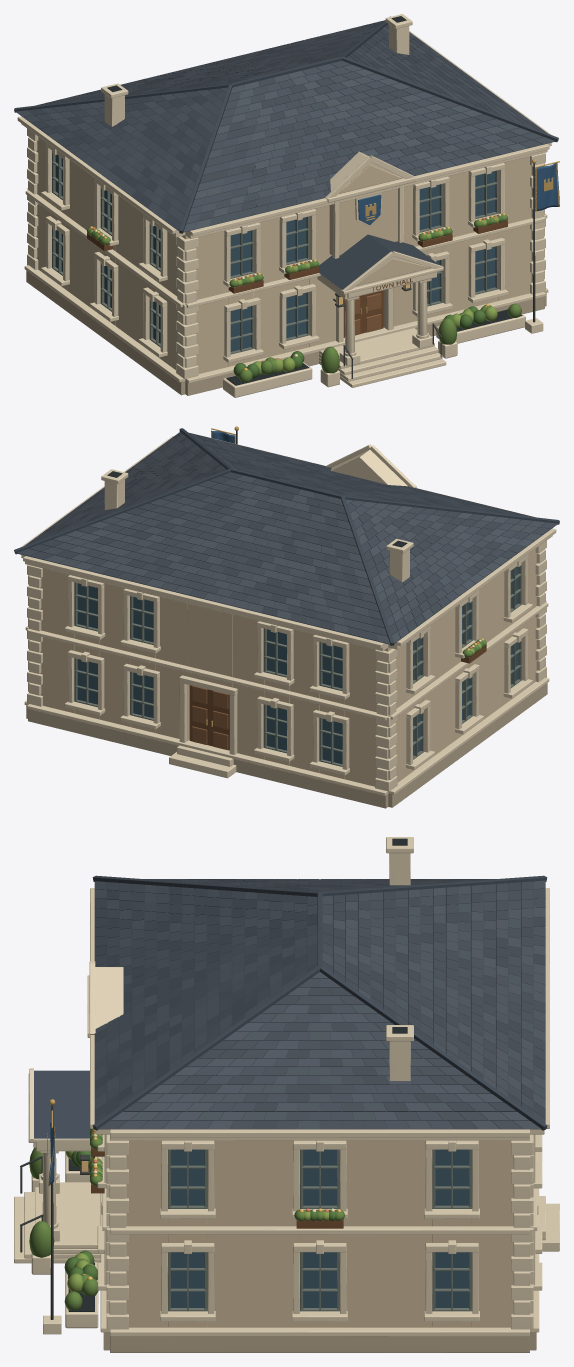
The model's file is SM_TownHall_Blockout.fbx.
3 renders of one model, top to bottom at view 1: azimuth 30°, elevation 25°; view 2: azimuth 150°, elevation 25°; view 3: azimuth 270°, elevation 25°, orthographic. The views are drawn at different scales.
Visible parts, largest first — view 1: EXPORT_TH_Slate_courses_0, EXPORT_TH_Slate_courses_3, EXPORT_TH_Slate_courses_1, EXPORT_TH_Slate_courses_2, EXPORT_TH_Hipped_Roof, EXPORT_TH_Front_Wall_0_0, EXPORT_TH_Front_Wall_10_0, EXPORT_TH_Left_Wall_4_0, EXPORT_TH_Left_Wall_2_0, EXPORT_TH_Front_Wall_8_0, EXPORT_TH_Front_Wall_2_0, EXPORT_TH_Central_Upper_Bay (+44 smaller); view 2: EXPORT_TH_Slate_courses_1, EXPORT_TH_Slate_courses_3, EXPORT_TH_Slate_courses_0, EXPORT_TH_Slate_courses_2, EXPORT_TH_Hipped_Roof, EXPORT_TH_Back_Continuous_course, EXPORT_TH_Back_Wall_10_0, EXPORT_TH_Back_Wall_0_0, EXPORT_TH_Back_Wall_4_0, EXPORT_TH_Left_Wall_2_0, EXPORT_TH_Left_Wall_4_0, EXPORT_TH_Back_Wall_6_0 (+34 smaller); view 3: EXPORT_TH_Slate_courses_1, EXPORT_TH_Slate_courses_2, EXPORT_TH_Slate_courses_0, EXPORT_TH_Right_Wall_2_0, EXPORT_TH_Right_Wall_4_0, EXPORT_TH_Hipped_Roof, EXPORT_TH_Right_Continuous_course, EXPORT_TH_Right_Wall_0_0, EXPORT_TH_Right_Wall_6_0, EXPORT_TH_Right_Continuous_course.001, EXPORT_TH_Right_Continuous_course.004, EXPORT_TH_Porch_Slate.001 (+28 smaller).
Part boxes in pixels (x1,y1,x2,y2): EXPORT_TH_Slate_courses_0: [183, 61, 555, 232]; EXPORT_TH_Slate_courses_3: [16, 87, 227, 230]; EXPORT_TH_Slate_courses_1: [36, 20, 385, 105]; EXPORT_TH_Slate_courses_2: [347, 24, 547, 133]; EXPORT_TH_Hipped_Roof: [16, 36, 543, 230]; EXPORT_TH_Front_Wall_0_0: [182, 231, 228, 373]; EXPORT_TH_Front_Wall_10_0: [498, 156, 532, 300]; EXPORT_TH_Left_Wall_4_0: [116, 195, 150, 350]; EXPORT_TH_Left_Wall_2_0: [67, 160, 101, 314]; EXPORT_TH_Front_Wall_8_0: [442, 171, 473, 314]; EXPORT_TH_Front_Wall_2_0: [253, 217, 284, 360]; EXPORT_TH_Central_Upper_Bay: [329, 188, 397, 255]; EXPORT_TH_Slate_courses_1: [17, 472, 389, 644]; EXPORT_TH_Slate_courses_3: [346, 499, 557, 643]; EXPORT_TH_Slate_courses_0: [189, 433, 534, 517]; EXPORT_TH_Slate_courses_2: [24, 432, 226, 545]; EXPORT_TH_Hipped_Roof: [17, 446, 557, 644]; EXPORT_TH_Back_Continuous_course: [28, 709, 388, 808]; EXPORT_TH_Back_Wall_10_0: [345, 643, 391, 786]; EXPORT_TH_Back_Wall_0_0: [40, 568, 74, 713]; EXPORT_TH_Back_Wall_4_0: [155, 597, 189, 740]; EXPORT_TH_Left_Wall_2_0: [423, 608, 457, 763]; EXPORT_TH_Left_Wall_4_0: [472, 572, 506, 727]; EXPORT_TH_Back_Wall_6_0: [232, 614, 264, 759]; EXPORT_TH_Slate_courses_1: [322, 880, 545, 1123]; EXPORT_TH_Slate_courses_2: [99, 972, 540, 1129]; EXPORT_TH_Slate_courses_0: [94, 881, 317, 1123]; EXPORT_TH_Right_Wall_2_0: [207, 1140, 300, 1327]; EXPORT_TH_Right_Wall_4_0: [339, 1140, 432, 1327]; EXPORT_TH_Hipped_Roof: [106, 882, 533, 1129]; EXPORT_TH_Right_Continuous_course: [110, 1336, 529, 1352]; EXPORT_TH_Right_Wall_0_0: [126, 1140, 168, 1327]; EXPORT_TH_Right_Wall_6_0: [471, 1140, 513, 1327]; EXPORT_TH_Right_Continuous_course.001: [110, 1327, 529, 1336]; EXPORT_TH_Right_Continuous_course.004: [110, 1129, 529, 1137]; EXPORT_TH_Porch_Slate.001: [34, 1070, 89, 1138].
Bounding box in the file's own units: 1728 × 1570 × 961.
